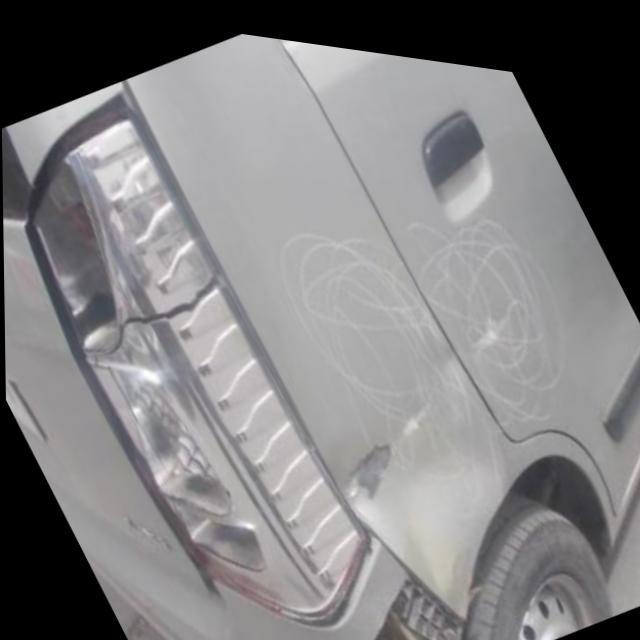dent: (340, 426, 396, 497)
lamp broken: (80, 260, 226, 367)
no part: (364, 560, 470, 640)
rub: (265, 227, 520, 505), (401, 190, 570, 421), (461, 290, 530, 353), (389, 378, 448, 445)
